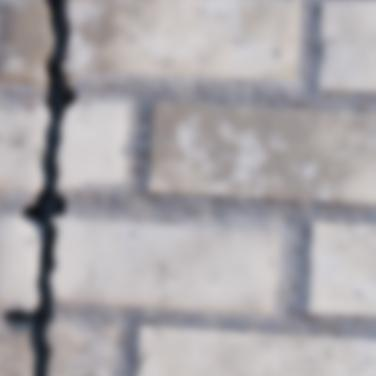brick: (148, 102, 375, 203), (139, 326, 375, 375), (308, 223, 375, 314), (318, 0, 375, 91)
broken_brick: (51, 213, 281, 315), (64, 0, 300, 81), (58, 101, 127, 189), (0, 0, 52, 84), (0, 105, 47, 195), (46, 321, 116, 375), (0, 216, 37, 308), (0, 329, 31, 375)
crack: (0, 0, 76, 375), (137, 352, 168, 375), (310, 258, 318, 262)
